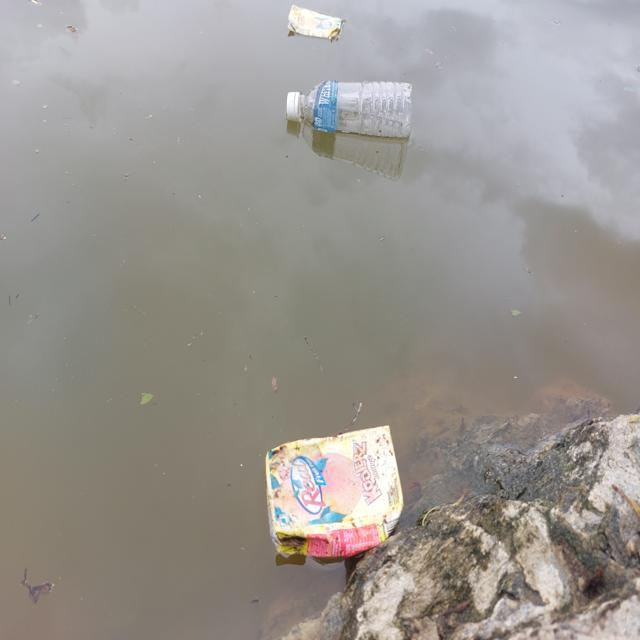paper: (258, 424, 402, 553), (278, 0, 354, 48)
waterbottle: (280, 82, 430, 153)
